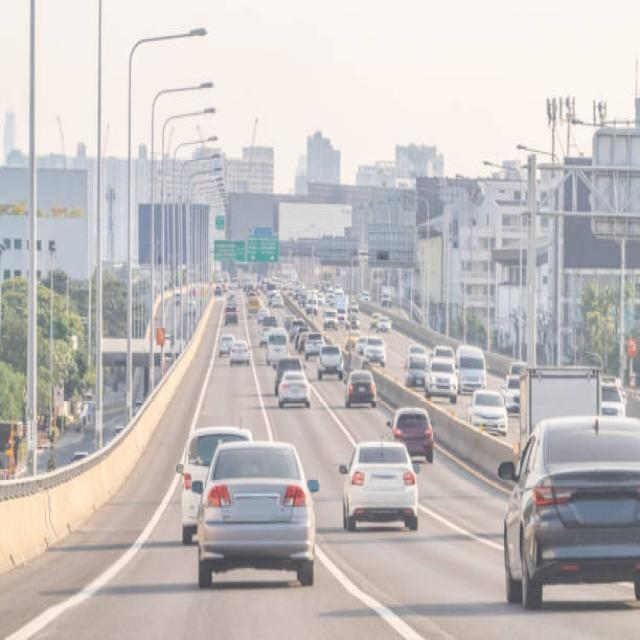moderate_traffic: (195, 268, 532, 608)
